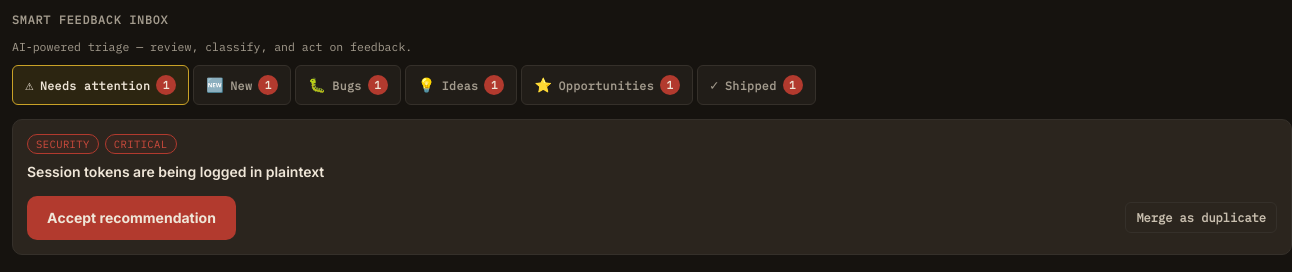
Test: SmartFeedbackInbox — one-click triage › shows Review button for low-confidence recommendations
The image size is (1292, 272).
Click the tab "💡 Ideas 1": (461, 85) [405,65,518,105]
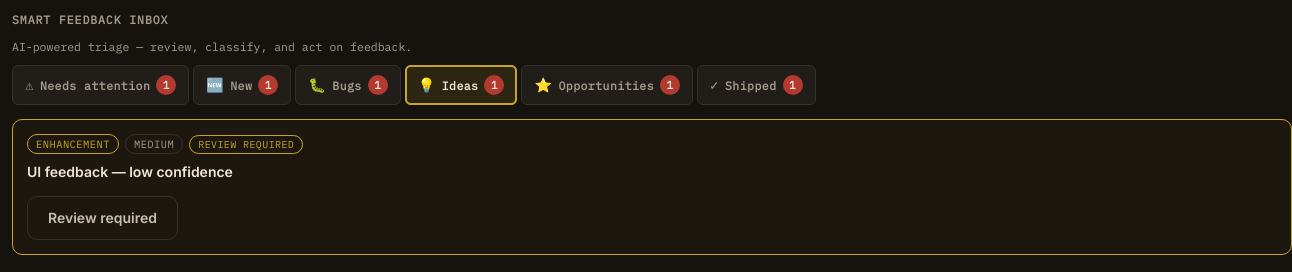
Result: the button "Accept recommendation" is gone
